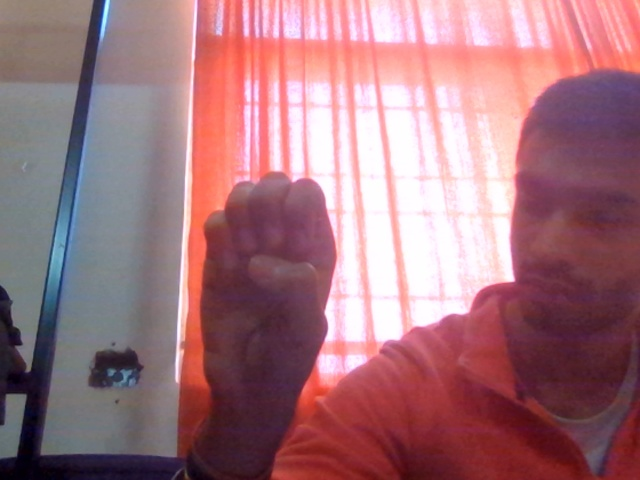E: (177, 147, 366, 464)
